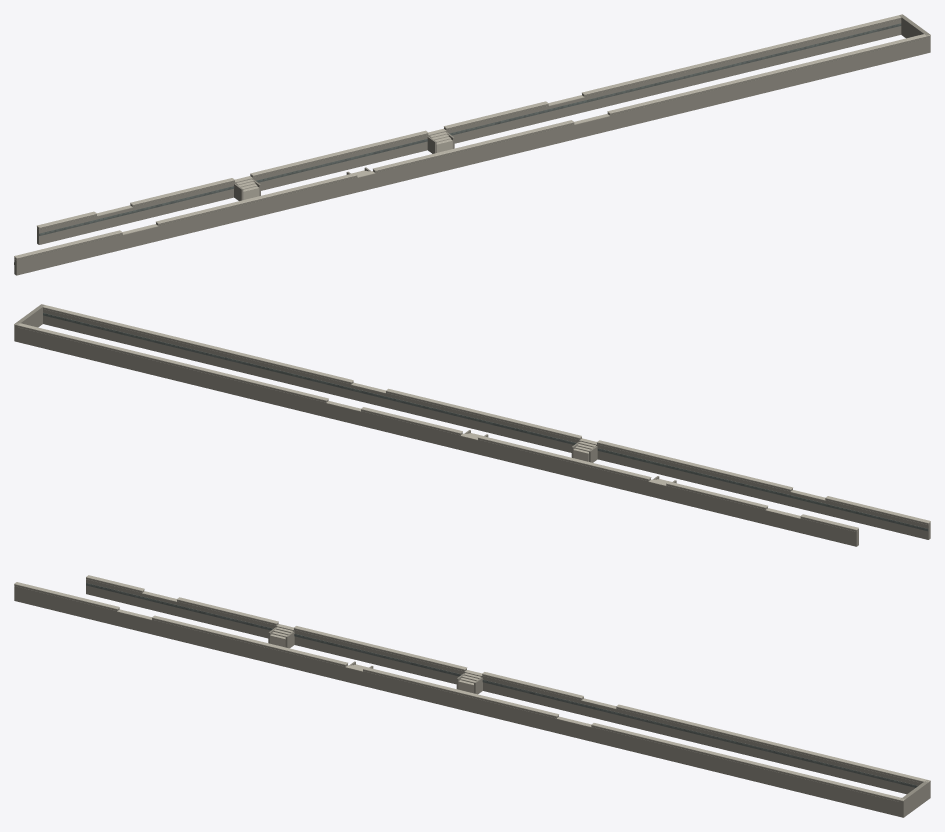
Rendered from canal_banks.glb.
3 renders of one model, top to bottom at view 1: azimuth 30°, elevation 25°; view 2: azimuth 150°, elevation 25°; view 3: azimuth 330°, elevation 25°, orthographic. The views are drawn at different scales.
Visible parts, largest first — view 1: canal_banks; view 2: canal_banks; view 3: canal_banks.
Boxes of the visible parts, left/top/right/bottom form: canal_banks: left=14, top=14, right=930, bottom=275; canal_banks: left=14, top=304, right=930, bottom=546; canal_banks: left=14, top=575, right=930, bottom=817.
Size of the model in its own units: 113 by 2.1 by 6.12.
Materials: 3 (1 with a texture image).
